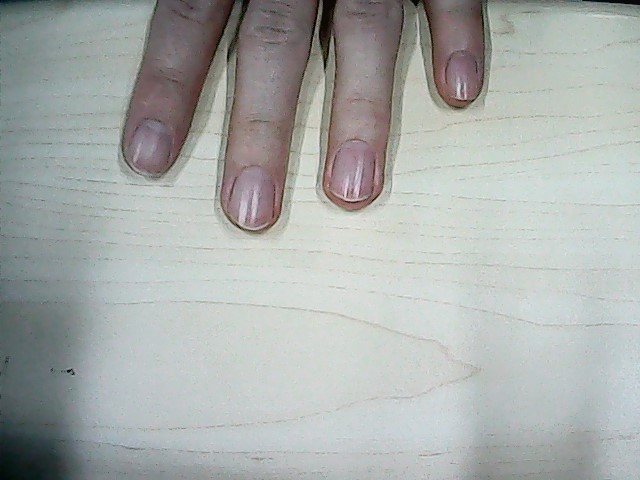nail: (324, 134, 378, 200), (225, 161, 276, 229), (121, 114, 176, 174), (439, 52, 484, 106)
